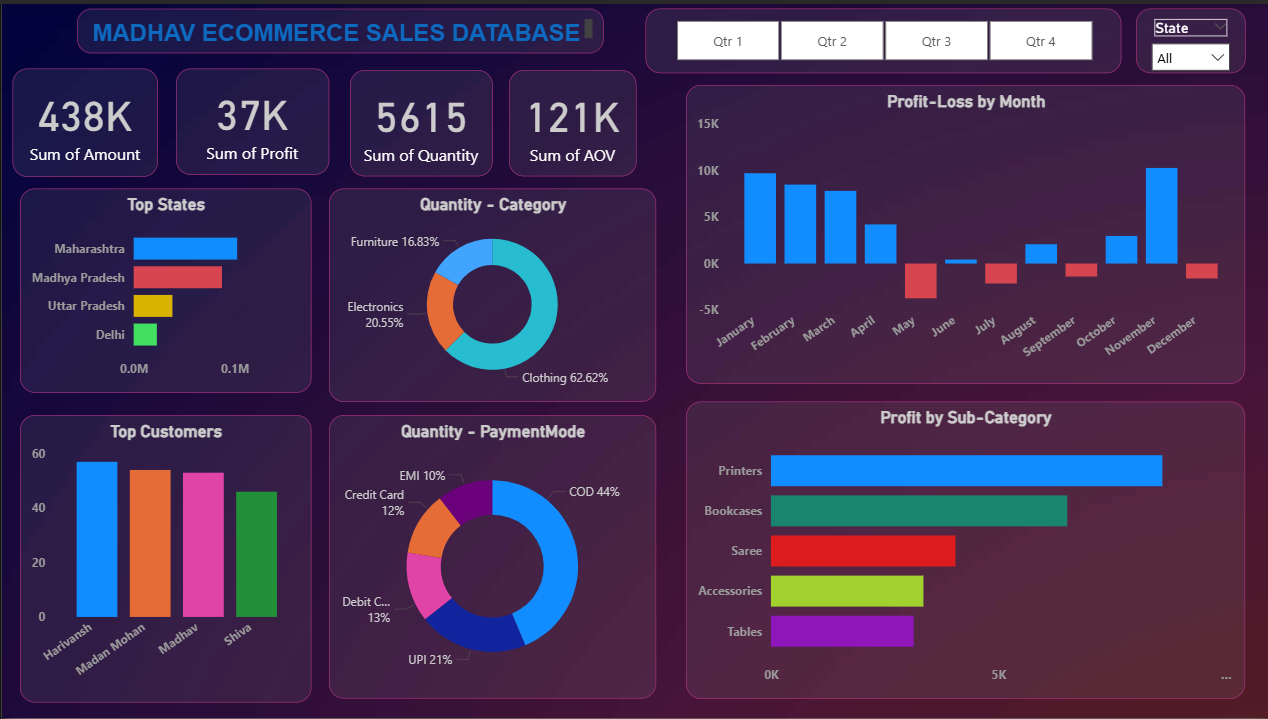

This screenshot's page, from the dashboard's own definition file:
{"tool":"powerbi","page":{"name":"Page 1","canvas":[1280,720],"ordinal":0},"visuals":[{"type":"textbox","box":[75,5,531.2,45],"z":0},{"type":"columnChart","title":"Profit-Loss by Month","fields":{"Category":["Orders.Order Date.Variation.Date Hierarchy.Month"],"Y":["Details.Profit"]},"box":[690,81.4,564.3,301.4],"z":1000},{"type":"clusteredBarChart","title":"Profit by Sub-Category","fields":{"Category":["Details.Sub-Category"],"Y":["Details.Profit"]},"box":[690,401.2,563.8,300],"z":2000},{"type":"donutChart","title":"Quantity - Category","fields":{"Category":["Details.Category"],"Y":["Details.Quantity"]},"box":[330.1,186.2,330.1,215],"z":3000},{"type":"donutChart","title":"Quantity - PaymentMode","fields":{"Category":["Details.PaymentMode"],"Y":["Details.Quantity"]},"box":[330.1,414.9,330.1,286.2],"z":4000},{"type":"card","fields":{"Values":["Details.Amount"]},"box":[10.6,65.1,146.9,109],"z":5000},{"type":"card","fields":{"Values":["Details.Profit"]},"box":[175.6,65.1,154.4,107.5],"z":6000},{"type":"card","fields":{"Values":["Details.Quantity"]},"box":[351.3,66.6,143.8,107.5],"z":7000},{"type":"card","fields":{"Values":["Details.AOV"]},"box":[511.2,66.2,128.8,107.5],"z":8000},{"type":"clusteredBarChart","title":"Top States","fields":{"Category":["Orders.State"],"Y":["Details.Amount"]},"box":[18.8,186.2,293.8,206.2],"z":9000},{"type":"columnChart","title":"Top Customers","fields":{"Category":["Orders.CustomerName"],"Y":["Details.Quantity"]},"box":[18.8,415,293.8,290],"z":10000},{"type":"slicer","fields":{"Values":["Orders.Order Date.Variation.Date Hierarchy.Quarter"]},"box":[648.8,5,480,65],"z":11000},{"type":"slicer","fields":{"Values":["Orders.State"]},"box":[1143.8,4.5,110.4,65.1],"z":12000}]}

Visuals, with their boxes in screenshot pixels (x1, y1, x2, y2), scaled from the page's 1280x720 canvas onto the 1268x719 screenshot:
textbox: (left=74, top=5, right=601, bottom=50)
"Profit-Loss by Month" columnChart: (left=684, top=81, right=1243, bottom=382)
"Profit by Sub-Category" clusteredBarChart: (left=684, top=401, right=1242, bottom=700)
"Quantity - Category" donutChart: (left=327, top=186, right=654, bottom=401)
"Quantity - PaymentMode" donutChart: (left=327, top=414, right=654, bottom=700)
card - Details.Amount: (left=11, top=65, right=156, bottom=174)
card - Details.Profit: (left=174, top=65, right=327, bottom=172)
card - Details.Quantity: (left=348, top=67, right=490, bottom=174)
card - Details.AOV: (left=506, top=66, right=634, bottom=173)
"Top States" clusteredBarChart: (left=19, top=186, right=310, bottom=392)
"Top Customers" columnChart: (left=19, top=414, right=310, bottom=704)
slicer - Orders.Order Date.Variation.Date Hierarchy.Quarter: (left=643, top=5, right=1118, bottom=70)
slicer - Orders.State: (left=1133, top=4, right=1242, bottom=70)
